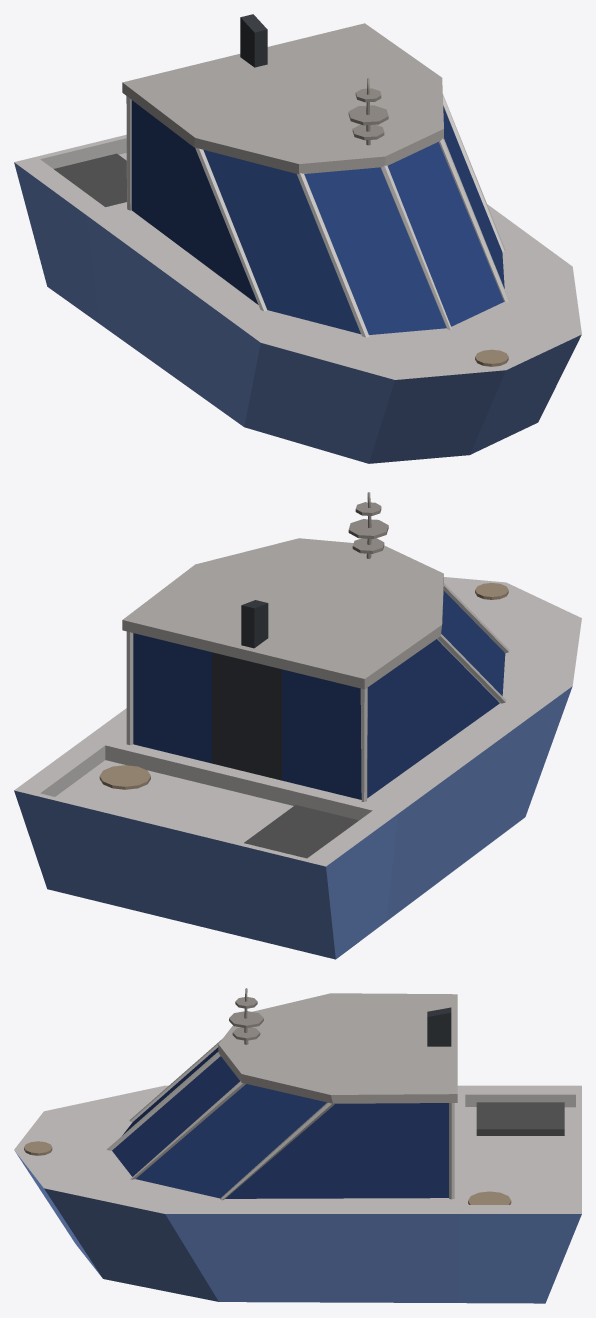
File: Yacht_4.fbx
3 renders of one model, top to bottom at view 1: azimuth 30°, elevation 25°; view 2: azimuth 150°, elevation 25°; view 3: azimuth 270°, elevation 25°, orthographic. The views are drawn at different scales.
Visible parts, largest first — view 1: Yacht_4; view 2: Yacht_4; view 3: Yacht_4.
Boxes of the visible parts, <box> form: Yacht_4: <box>14,14,581,463</box>; Yacht_4: <box>14,492,581,959</box>; Yacht_4: <box>14,988,581,1303</box>.
Size of the model in its own units: 452 by 418 by 844.
